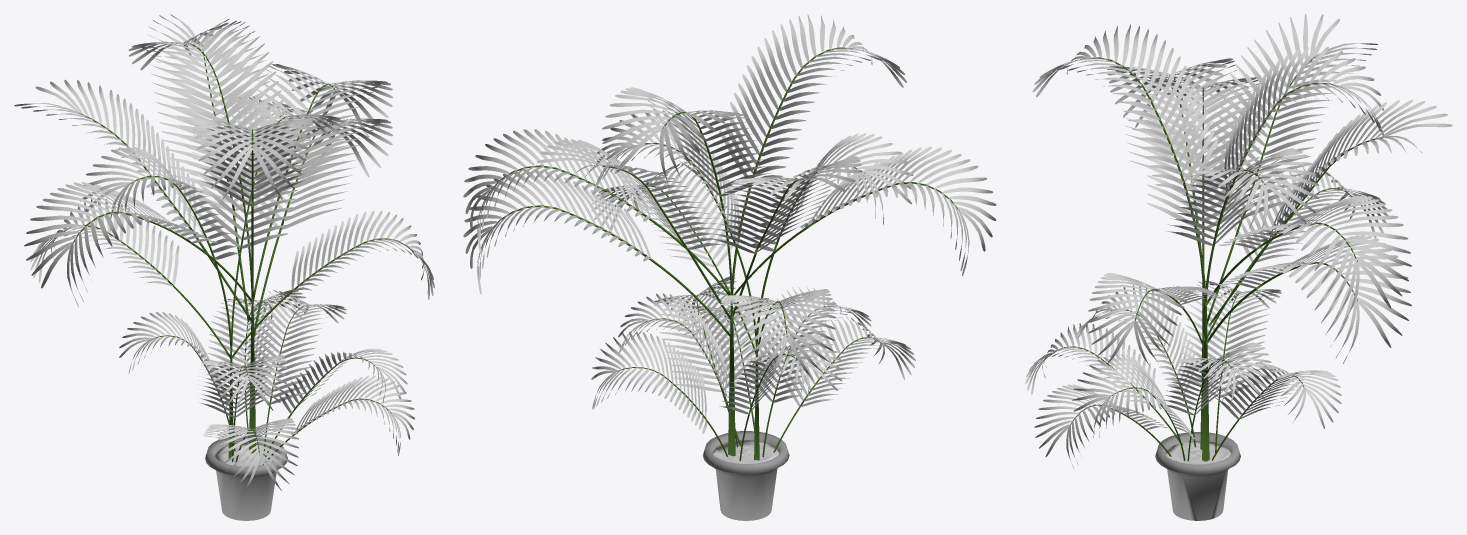
File: tree.obj
3 renders of one model, left to right at view 1: azimuth 30°, elevation 25°; view 2: azimuth 150°, elevation 25°; view 3: azimuth 270°, elevation 25°, orthographic. The views are drawn at different scales.
Bounding box in the file's own units: 85.21 × 82.99 × 72.54.
